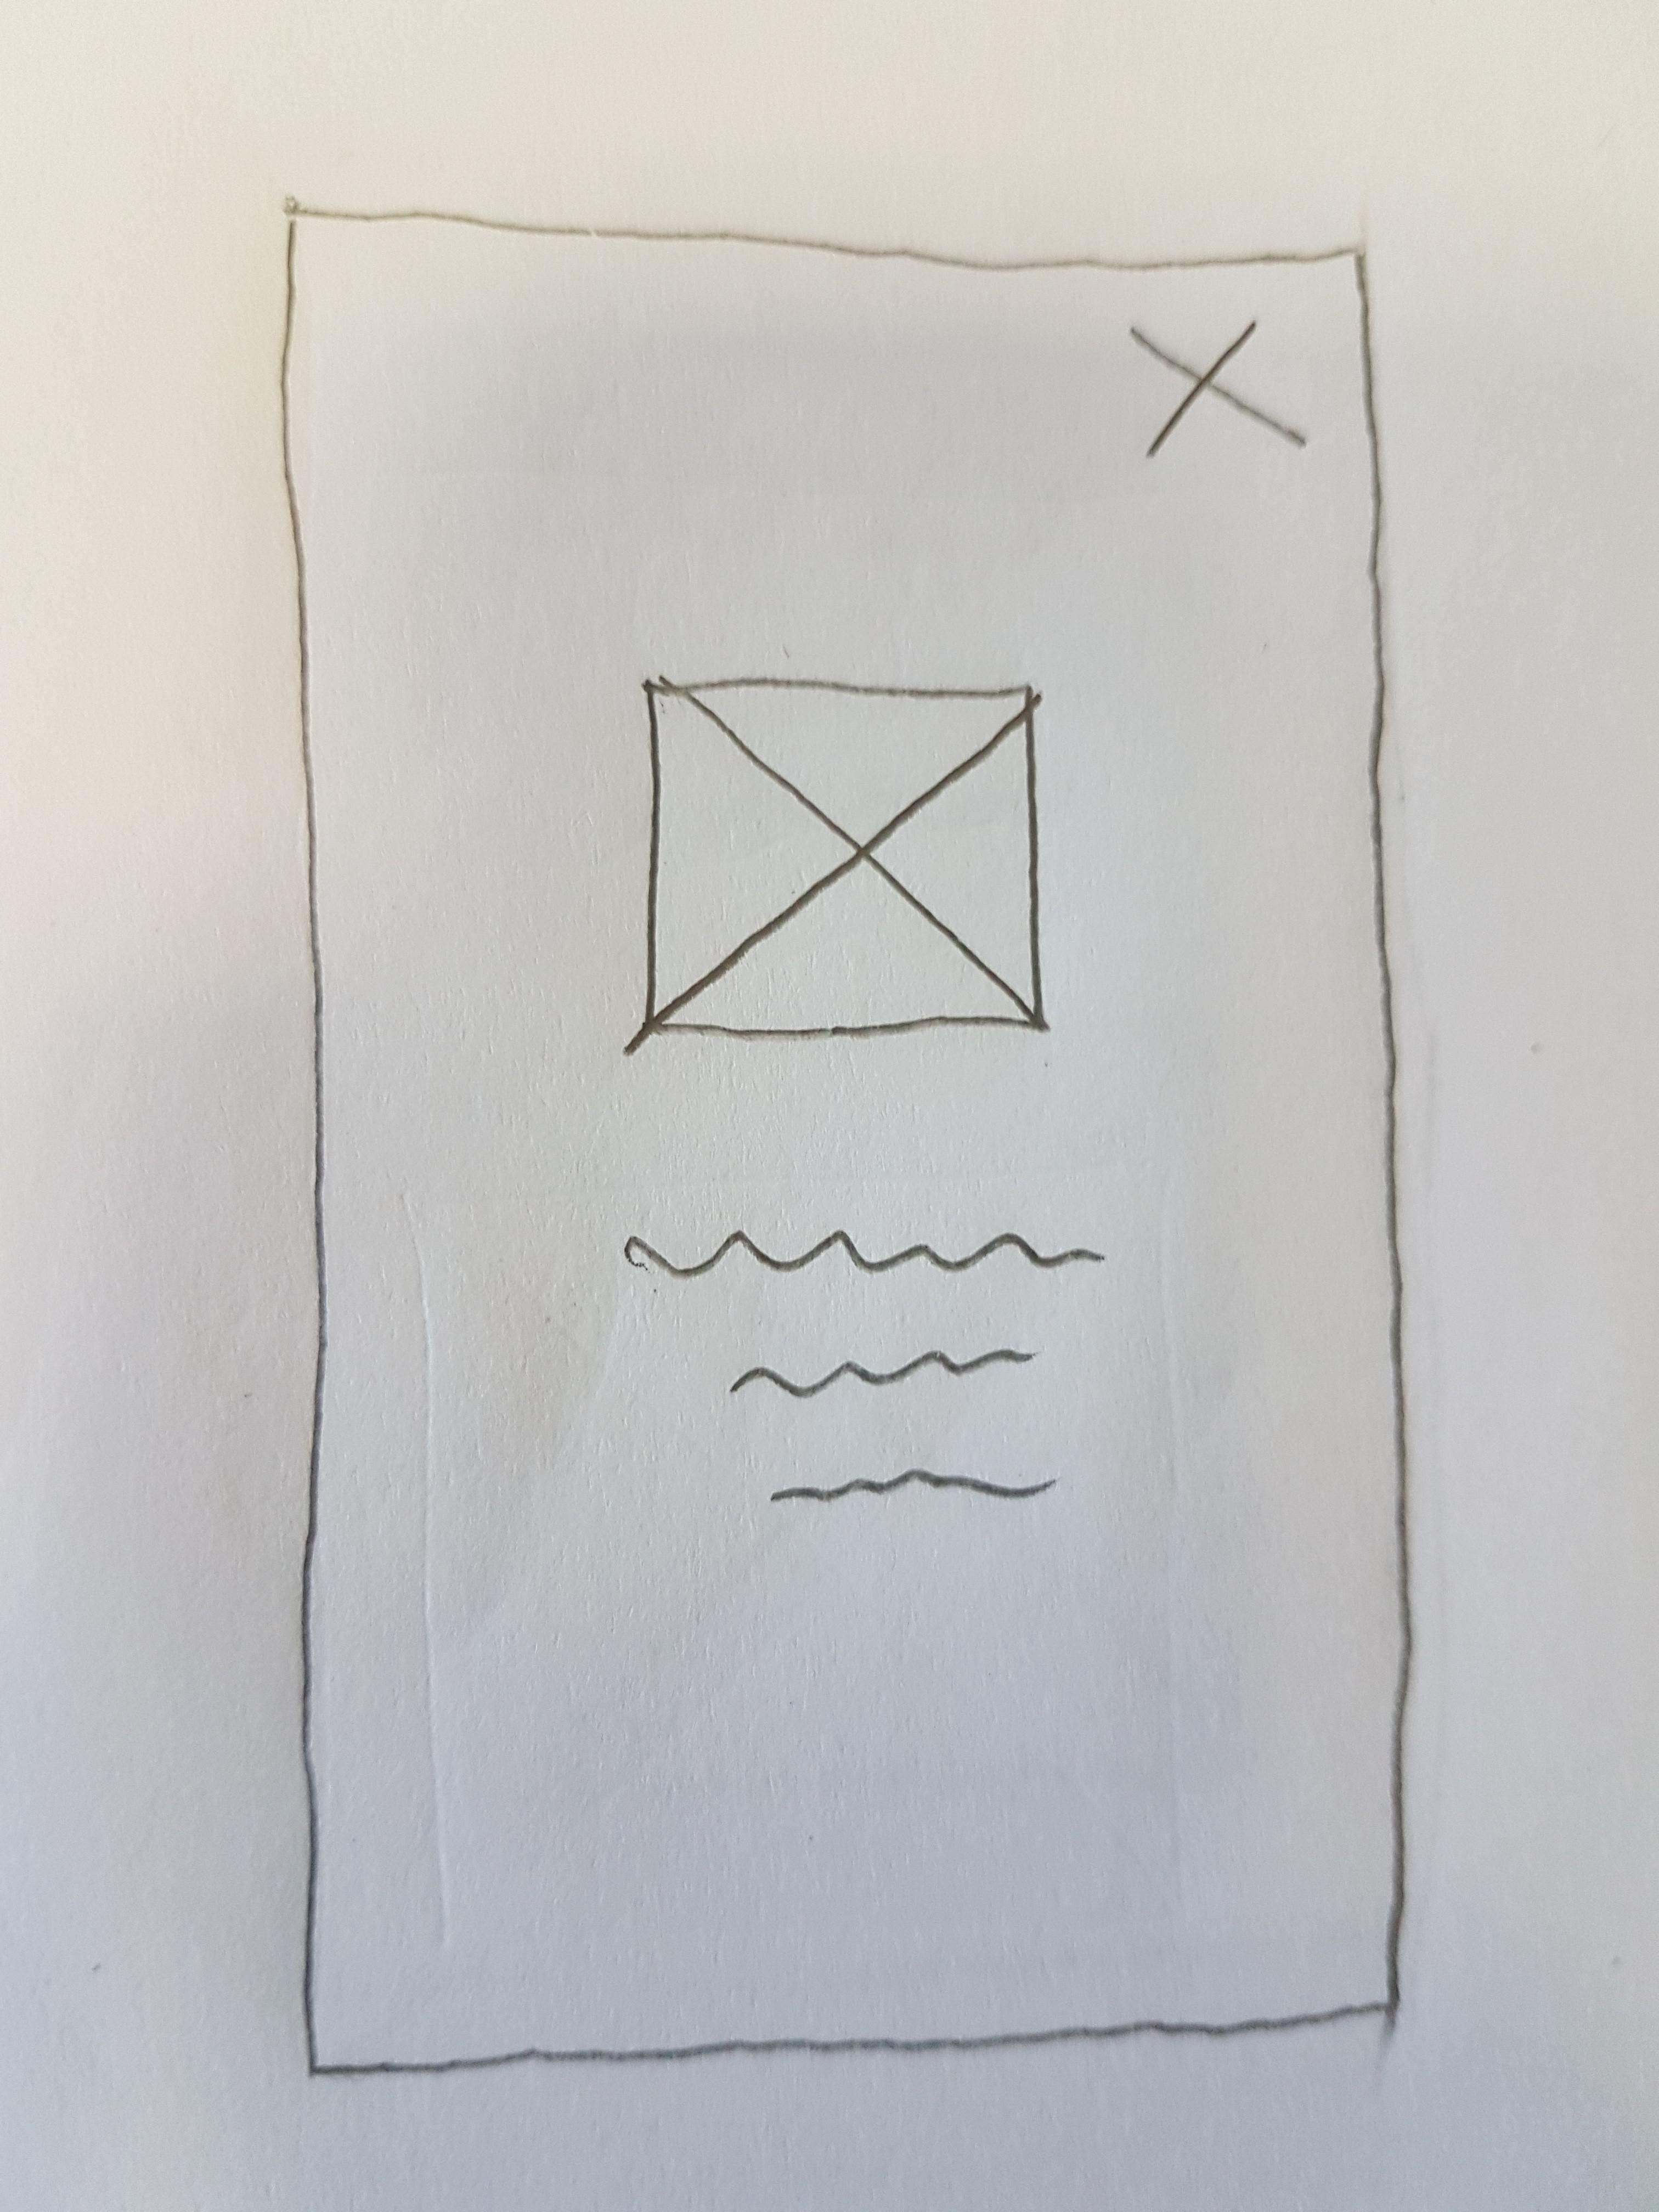Button: (1129, 315, 1307, 463)
Image: (643, 679, 1046, 1036)
Label: (626, 1230, 1108, 1503)
Screen: (282, 197, 1415, 2076)
